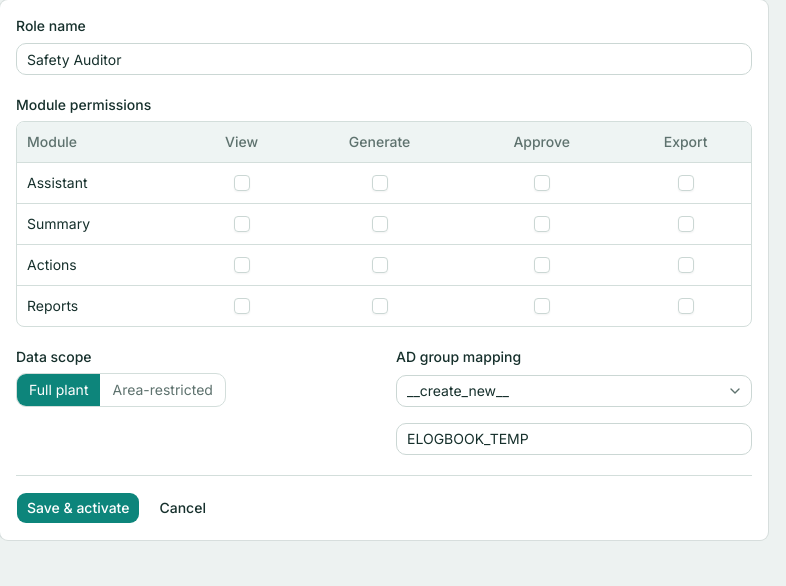
it: RoleForm › clears the AD group error once a group is supplied after a failed submit
Clear the field named "New AD group name": (574,438) [396,422,752,454]
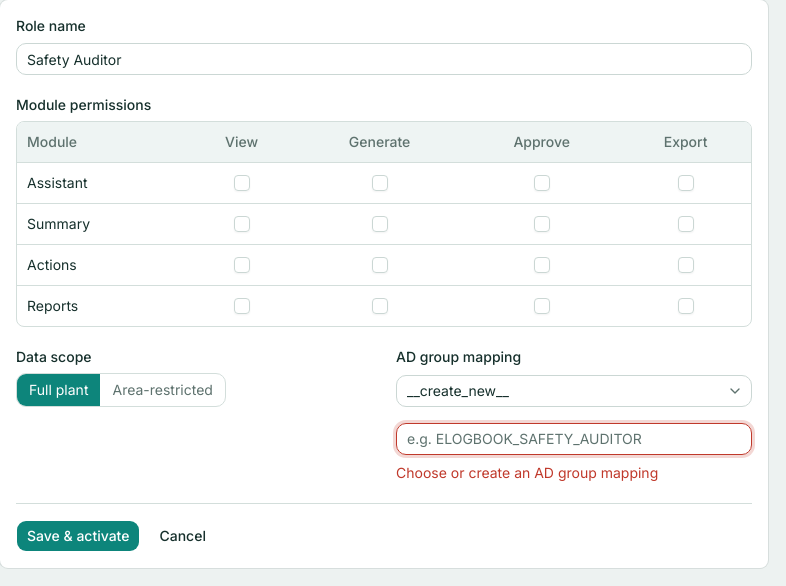
Click the button "Save & activate": (78,536) [16,520,140,552]
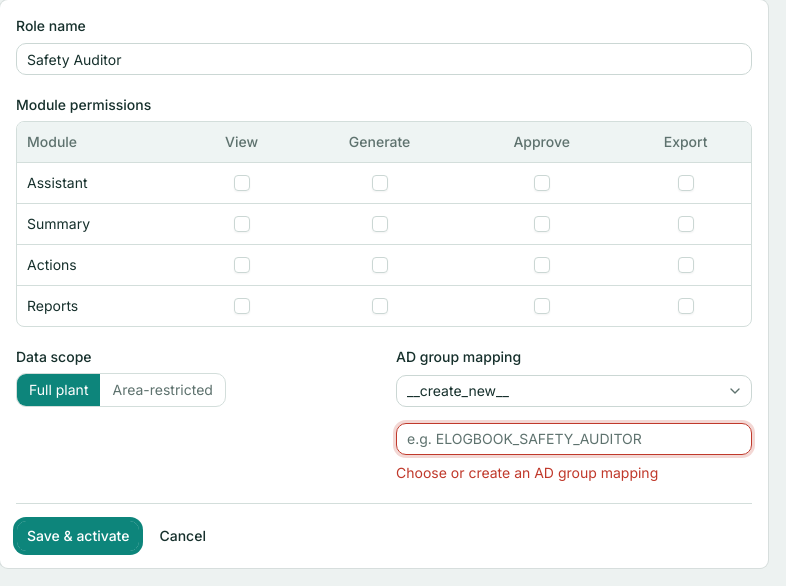
Check: the text "Choose or create an AD group mapping" is shown, box [396,464,658,480]
In the field named "New AD group name": (574,438) [396,422,752,454], type "ELOGBOOK_SAFETY_AUDITOR"
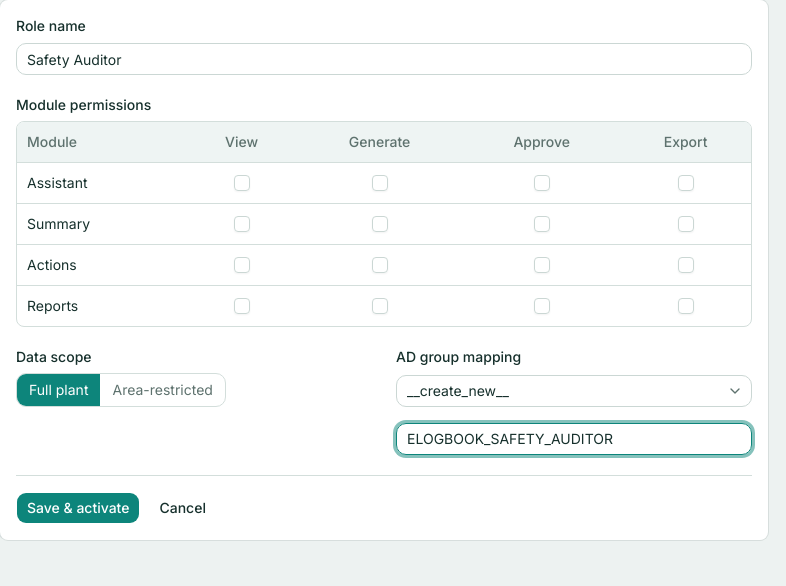
Check: the text "Choose or create an AD group mapping" is gone
